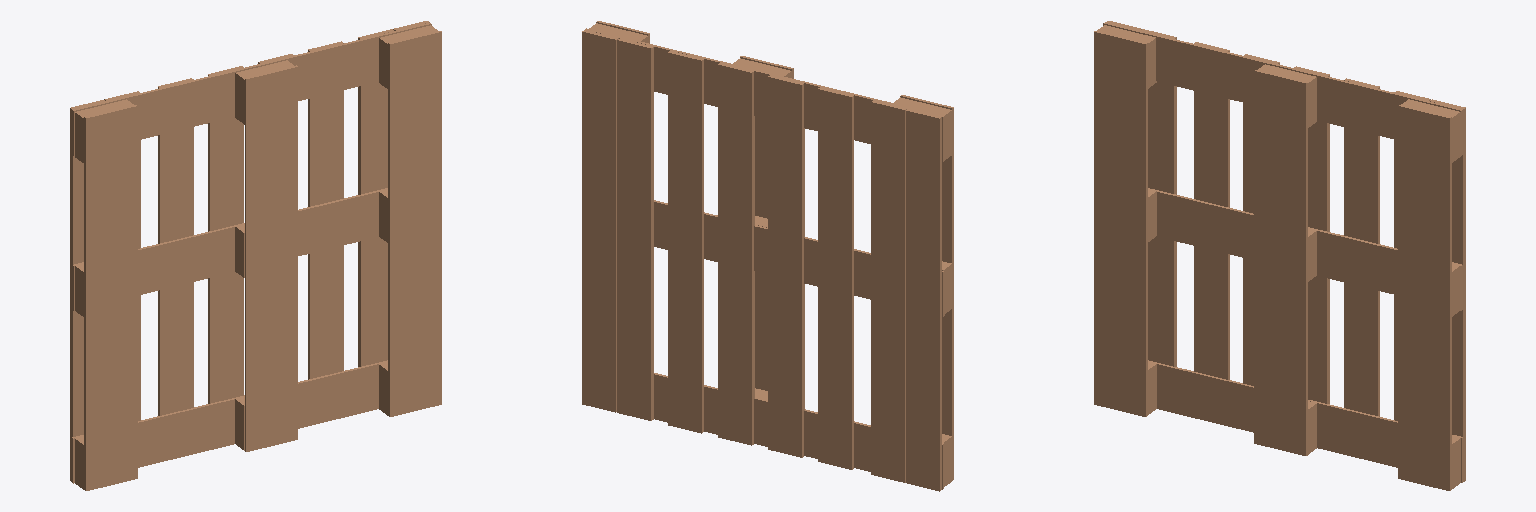
The robot description file, URDF, robot "object":
<?xml version="1.0"?>
<robot name="object">
  <link name="object">
    <visual>
      <origin xyz="0 0 0"/>
      <geometry>
        <mesh filename="meshes/pallet.obj" scale="0.5 0.3 0.415"/>
      </geometry>
      <material name="object_mat">
        <color rgba="0.78 0.61 0.48 1"/>
      </material>
    </visual>
    <collision>
      <origin xyz="0 0 0"/>
      <geometry>
        <box size ="5.5 0.8 5.5"/>
      </geometry>
    </collision>
    <inertial>
      <mass value="50000"/>
      <inertia ixx="0.1" ixy="0" ixz="0" iyy="0.1" iyz="0" izz="0.1"/>
    </inertial>
  </link>
  
</robot>

--- Facts derived from the render (not from the file) ---
Views: 3 orthographic renders of the robot side by side, from view 1: azimuth 30°, elevation 25°; view 2: azimuth 150°, elevation 25°; view 3: azimuth 330°, elevation 25°.
Model object with 1 links and 0 joints (none), rooted at object, posed all joints at 0.
Visible links, largest first — view 1: object; view 2: object; view 3: object.
Link boxes in pixels (x1,y1,x2,y2): object: [70, 21, 441, 490]; object: [582, 21, 953, 491]; object: [1094, 21, 1465, 490].
Size in the robot's own frame: 5 by 0.37 by 4.98 metres.
1 mesh visuals loaded from 1 distinct referenced files (1 OBJ).